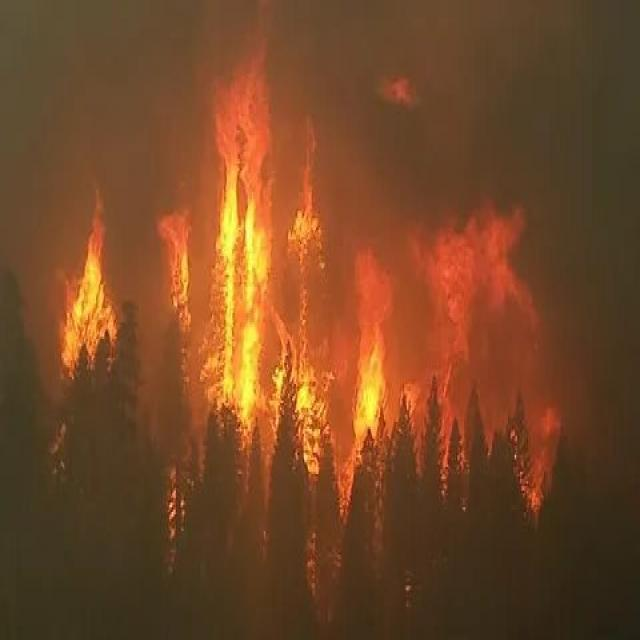Fire: (159, 85, 409, 469), (46, 208, 126, 388)
